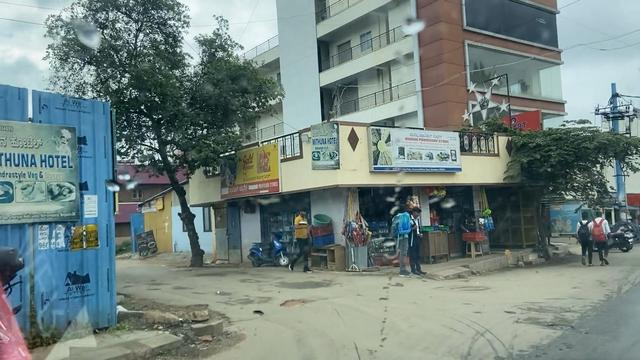RoadDamages: (172, 306, 250, 360), (544, 312, 586, 335), (280, 292, 312, 308)
